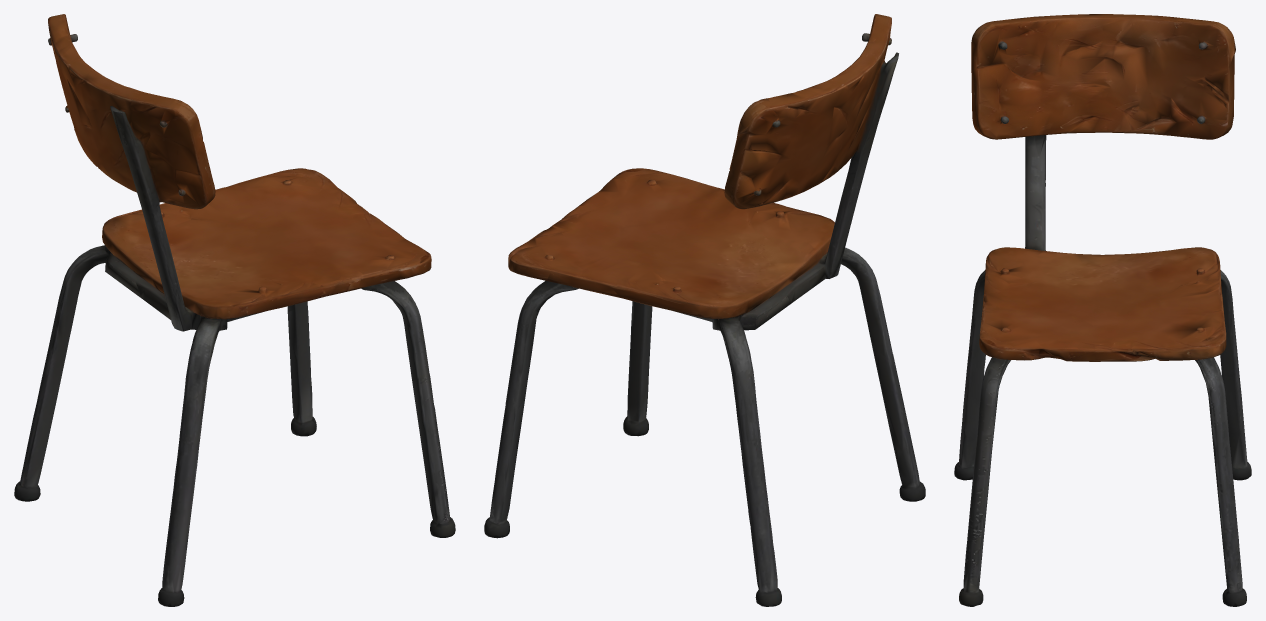
Rendered from level0-manila-chair.glb.
The picture shows the model from 3 angles, left to right: view 1: azimuth 30°, elevation 25°; view 2: azimuth 150°, elevation 25°; view 3: azimuth 270°, elevation 25°; orthographic projection. The views are drawn at different scales.
Visible parts, largest first — view 1: tripo_node_f9900087-51b7-4491-9be8-f04b82dedf66; view 2: tripo_node_f9900087-51b7-4491-9be8-f04b82dedf66; view 3: tripo_node_f9900087-51b7-4491-9be8-f04b82dedf66.
Boxes of the visible parts, x1,y1,x2,y2 form: tripo_node_f9900087-51b7-4491-9be8-f04b82dedf66: (14, 14, 455, 606); tripo_node_f9900087-51b7-4491-9be8-f04b82dedf66: (484, 14, 925, 606); tripo_node_f9900087-51b7-4491-9be8-f04b82dedf66: (954, 14, 1251, 606).
Bounding box in the file's own units: 0.6603 × 0.9994 × 0.5848.
Materials: 1 (1 with a texture image).
